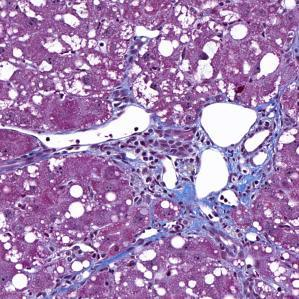fibrosis: (124, 132, 202, 204)
